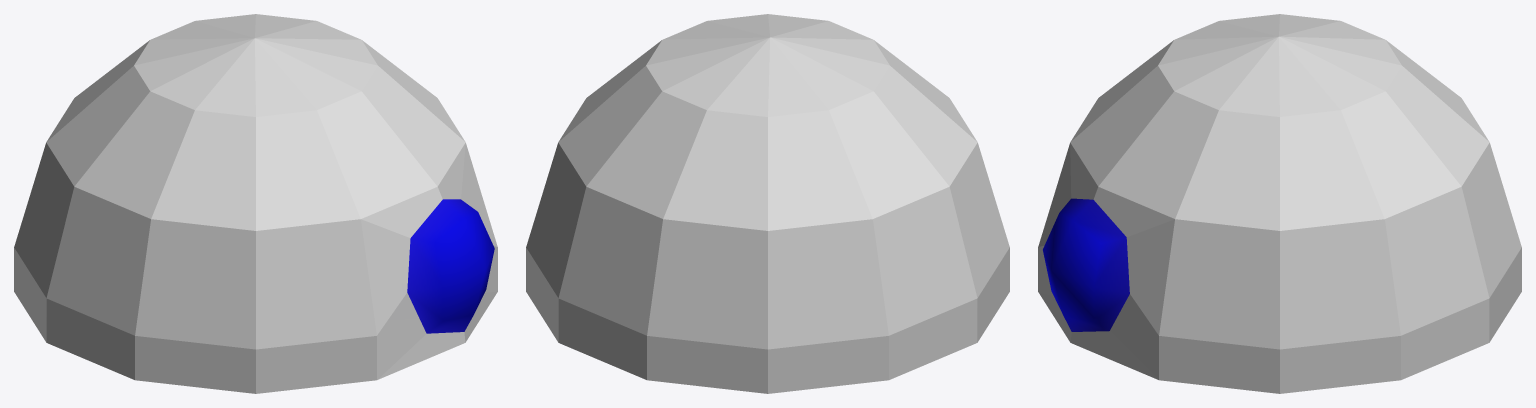
Rendered from Head02.gltf.
The picture shows the model from 3 angles, left to right: view 1: azimuth 30°, elevation 25°; view 2: azimuth 150°, elevation 25°; view 3: azimuth 270°, elevation 25°; orthographic projection.
Parts seen in each view (by area): view 1: Head02; view 2: Head02; view 3: Head02.
Part boxes in pixels (<box>): Head02: <box>14,14,497,393</box>; Head02: <box>526,14,1009,393</box>; Head02: <box>1038,14,1521,393</box>.
Size of the model in its own units: 0.5 by 0.29 by 0.5.
